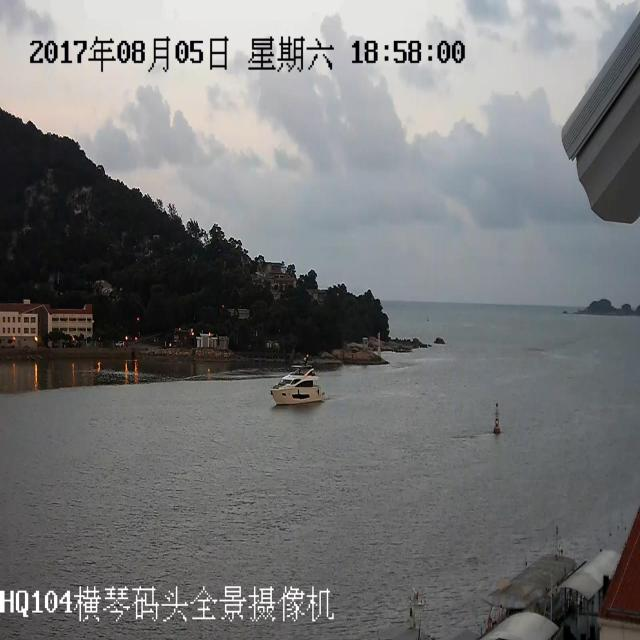buoy: (482, 408, 512, 444)
passenger ship: (271, 346, 331, 424)
reef: (568, 288, 638, 333)
